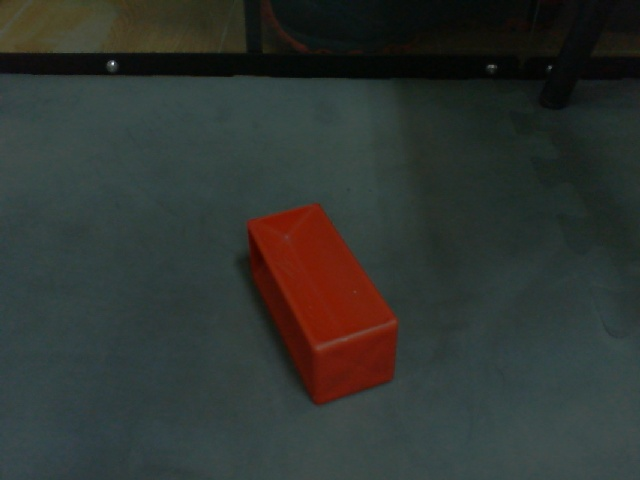RedSample: (245, 202, 400, 408)
